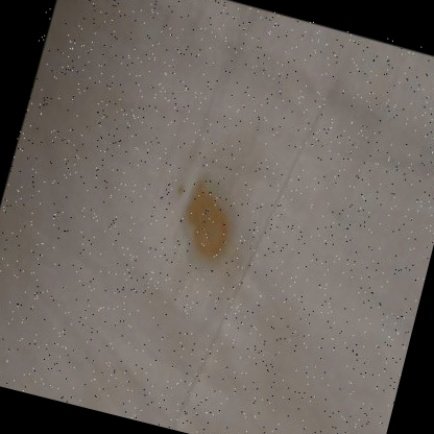kimchi: (167, 172, 251, 270)
